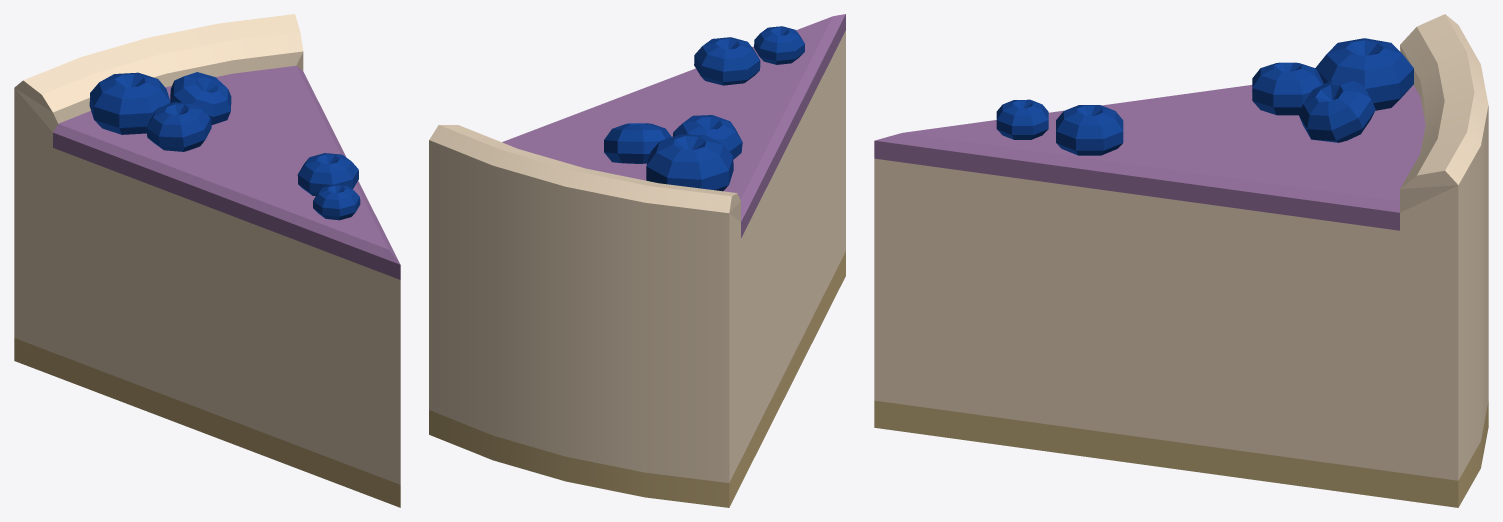
The model's file is PW_cheesecake_blueberry.fbx.
The picture shows the model from 3 angles, left to right: view 1: azimuth 30°, elevation 25°; view 2: azimuth 150°, elevation 25°; view 3: azimuth 270°, elevation 25°; orthographic projection. The views are drawn at different scales.
Visible parts, largest first — view 1: cheesecake_blueberry; view 2: cheesecake_blueberry; view 3: cheesecake_blueberry.
Part boxes in pixels (box(x1,y1,x2,y2)): cheesecake_blueberry: box(14, 14, 400, 507); cheesecake_blueberry: box(429, 14, 845, 507); cheesecake_blueberry: box(874, 14, 1488, 507).
Bounding box in the file's own units: 20.01 × 19.98 × 32.37.
1 material, 1 textured.
